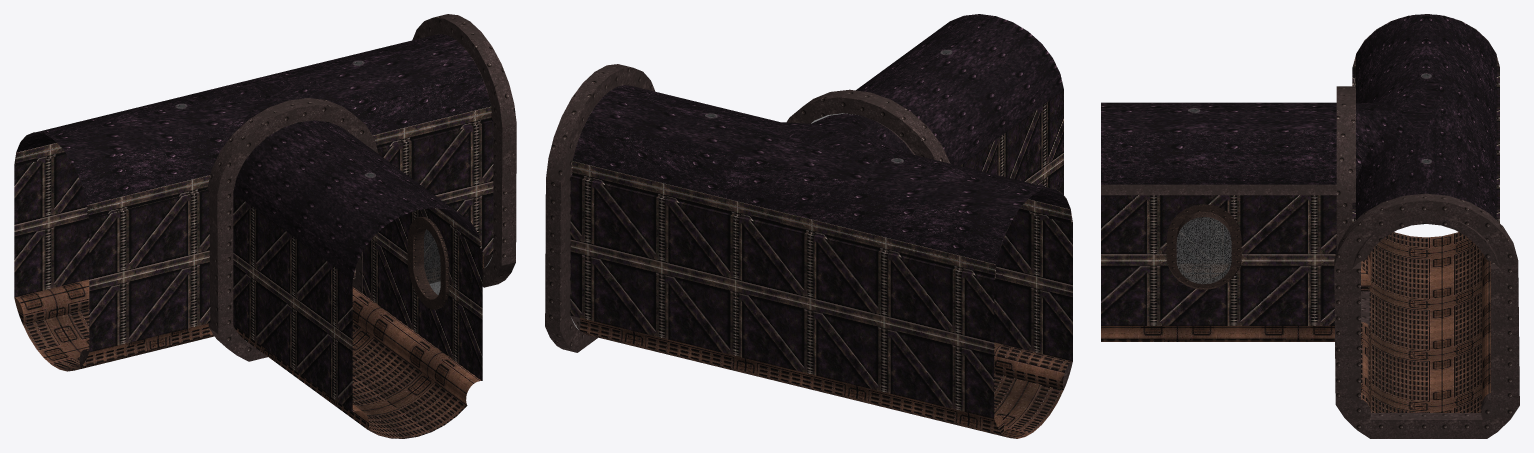
Rendered from pasillo 3 corto.fbx.
3 views of the same model, side by side, from view 1: azimuth 30°, elevation 25°; view 2: azimuth 150°, elevation 25°; view 3: azimuth 270°, elevation 25° (orthographic). The views are drawn at different scales.
Parts seen in each view (by area): view 1: Model; view 2: Model; view 3: Model.
Boxes of the visible parts, box(x1,y1,x2,y2) form: Model: box(14, 14, 516, 438); Model: box(545, 14, 1072, 438); Model: box(1101, 14, 1519, 438).
Size of the model in its own units: 5.54 by 3.07 by 4.88.
